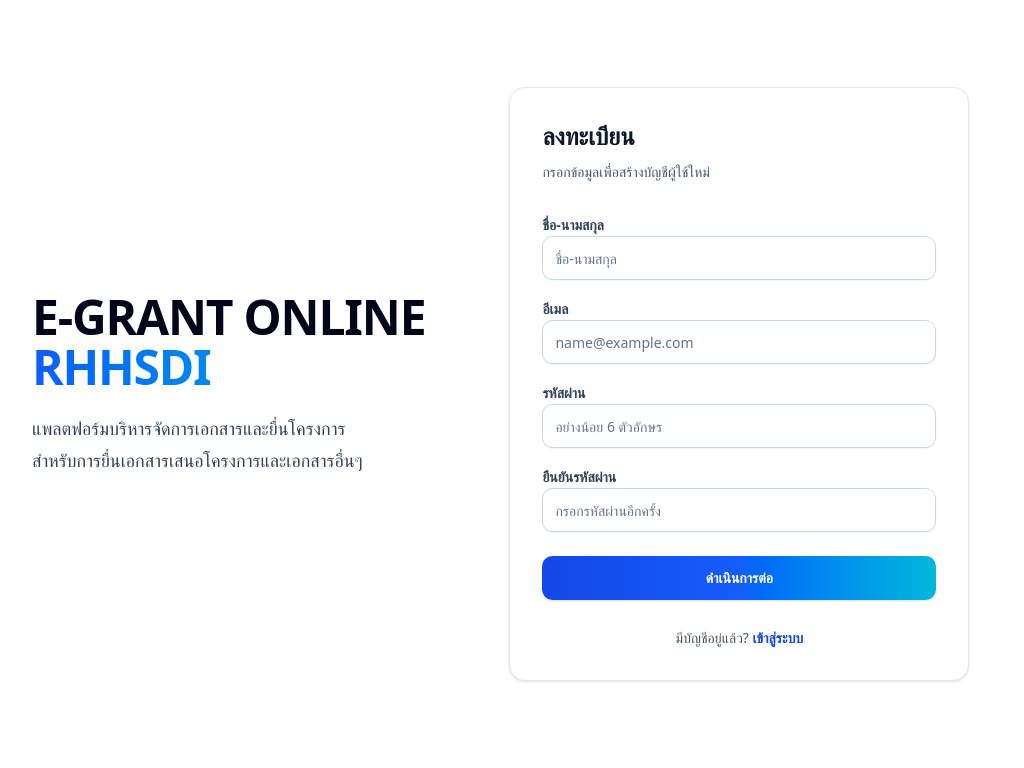
SignupClient › shows API error message when signup endpoint returns error
The width and height of the screenshot is (1024, 768).
Type "ผู้ทดสอบ ระบบ" into the field labelled "ชื่อ-นามสกุล" at [739, 258], box [542,236,936,280]
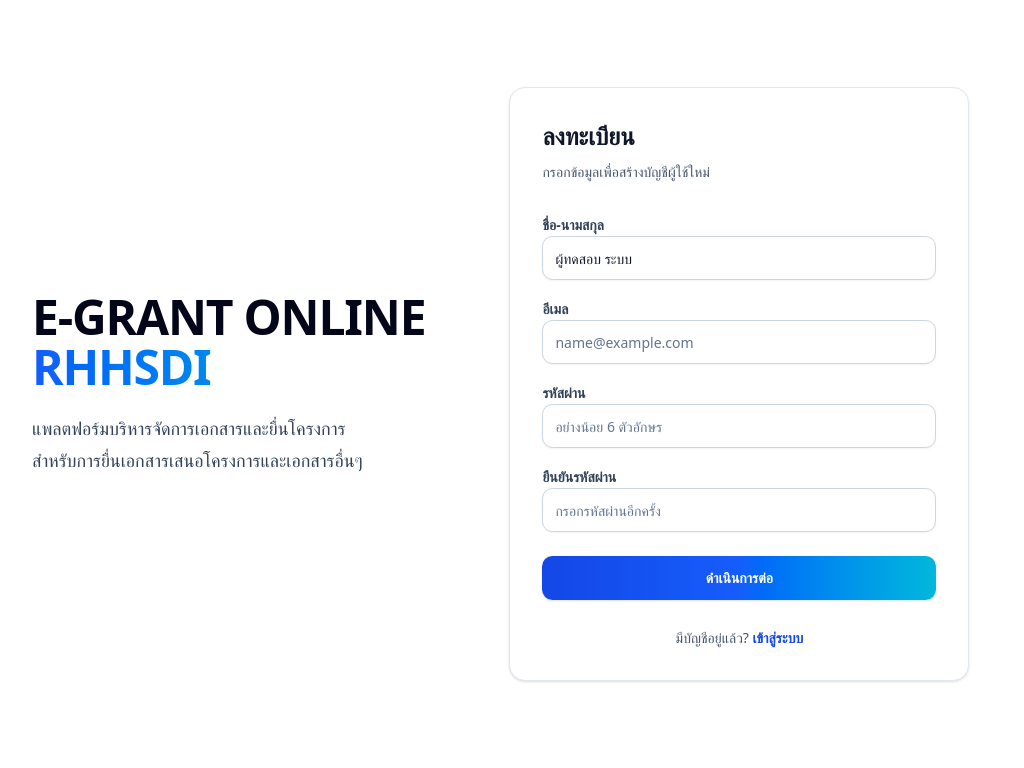
Type "tester@example.com" into the field labelled "อีเมล" at [739, 342], box [542,320,936,364]
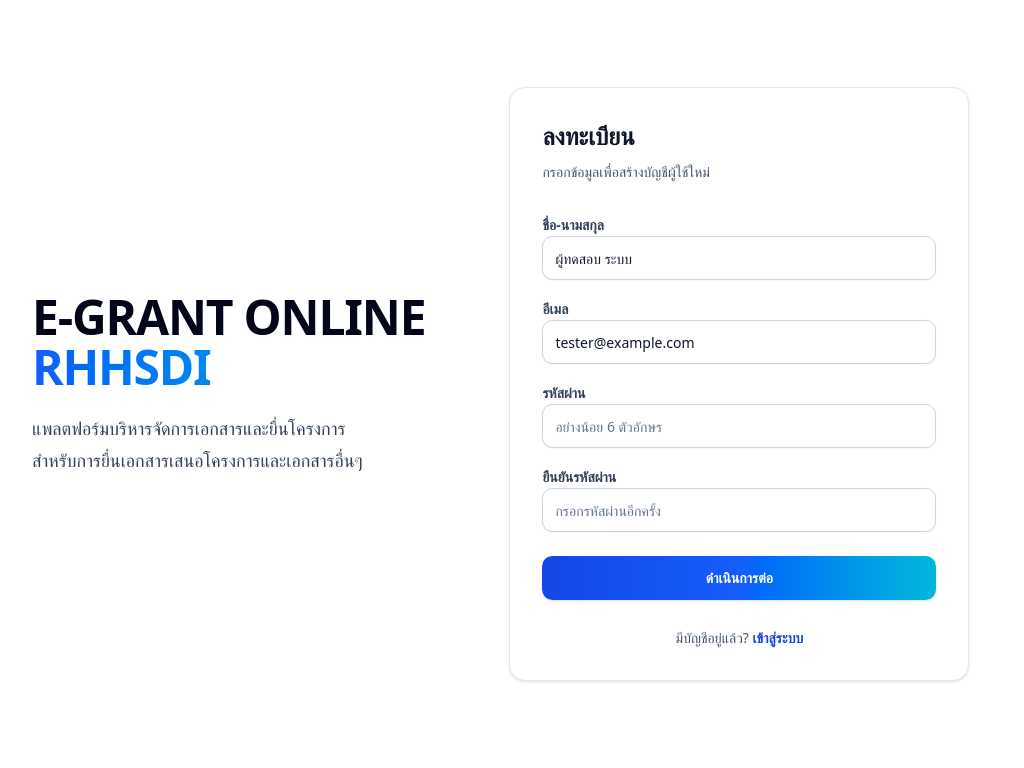
Type "123456" into the password field labelled "รหัสผ่าน" at [739, 426], box [542,404,936,448]
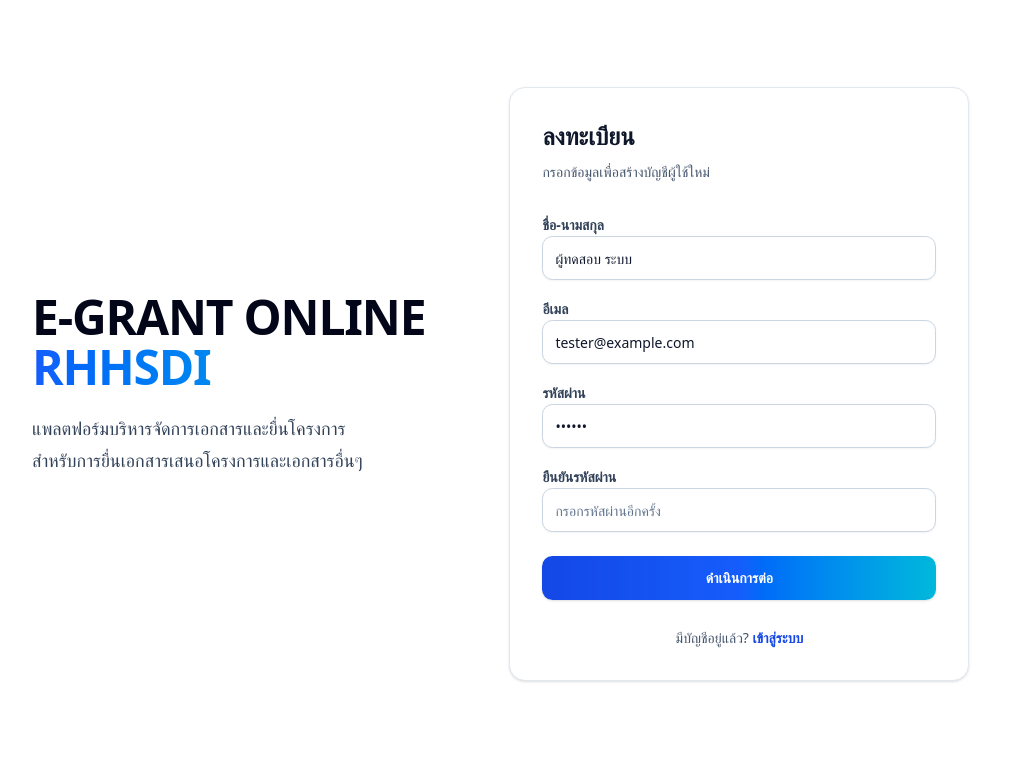
Type "123456" into the password field labelled "ยืนยันรหัสผ่าน" at [739, 510], box [542,488,936,532]
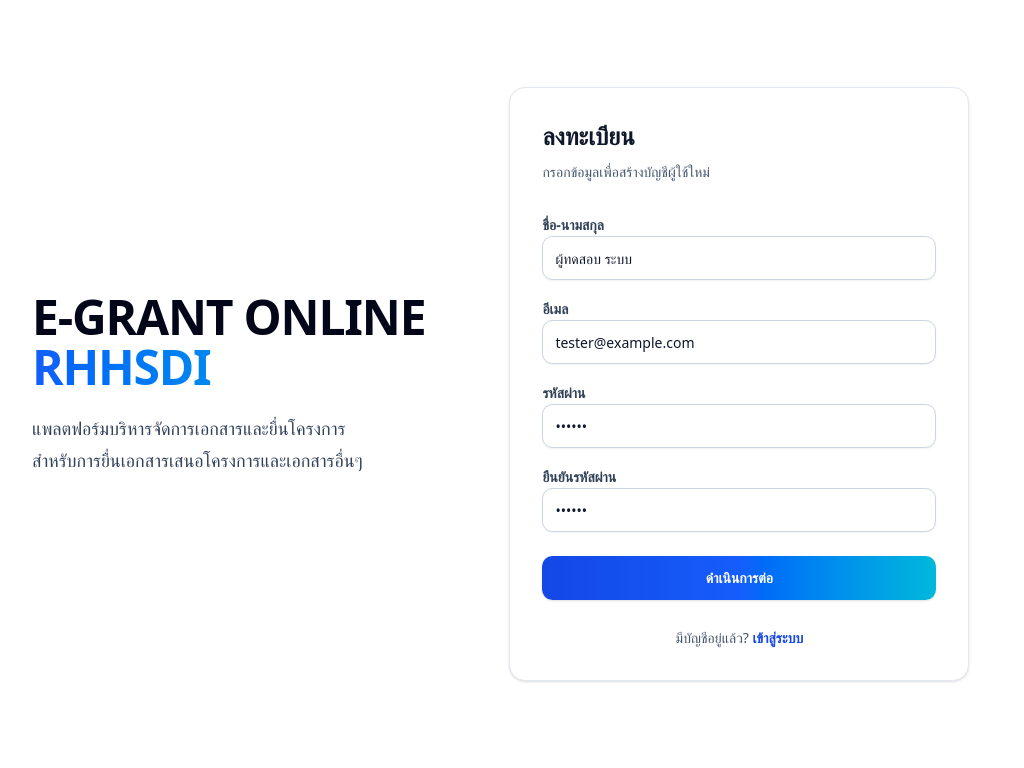
Click the button "ดำเนินการต่อ" at [739, 578], box [542,556,936,600]
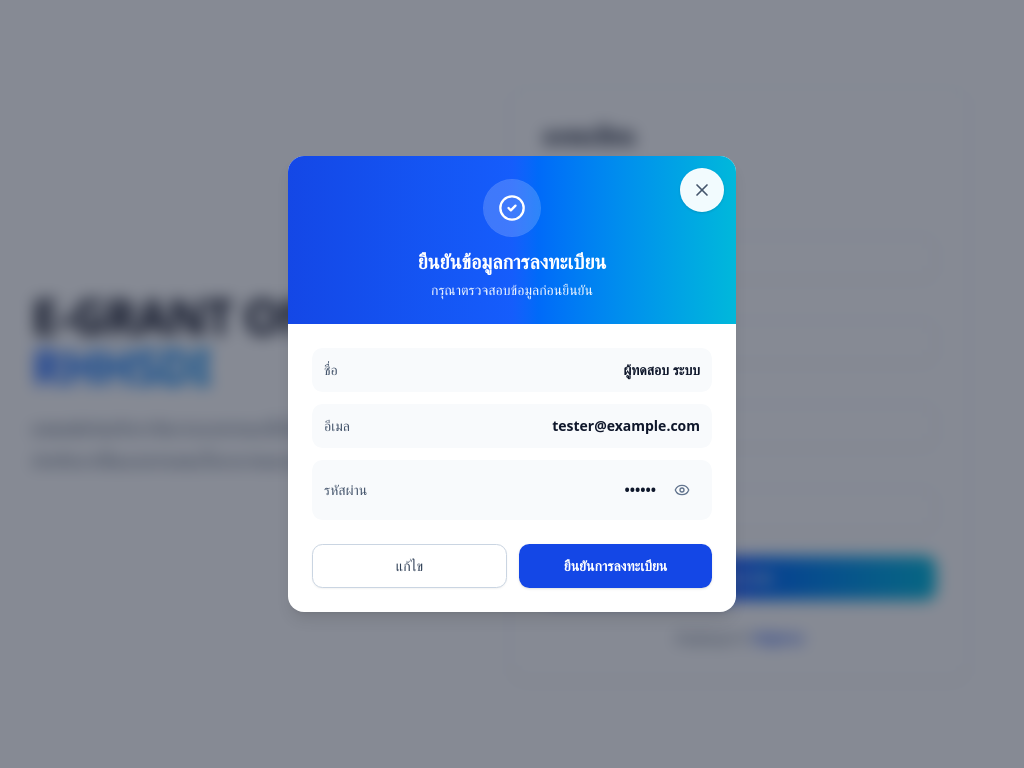
Check: the heading "ยืนยันข้อมูลการลงทะเบียน" is shown, box [418,248,606,275]
Click the button "ยืนยันการลงทะเบียน" at [616, 566], box [519,544,712,588]
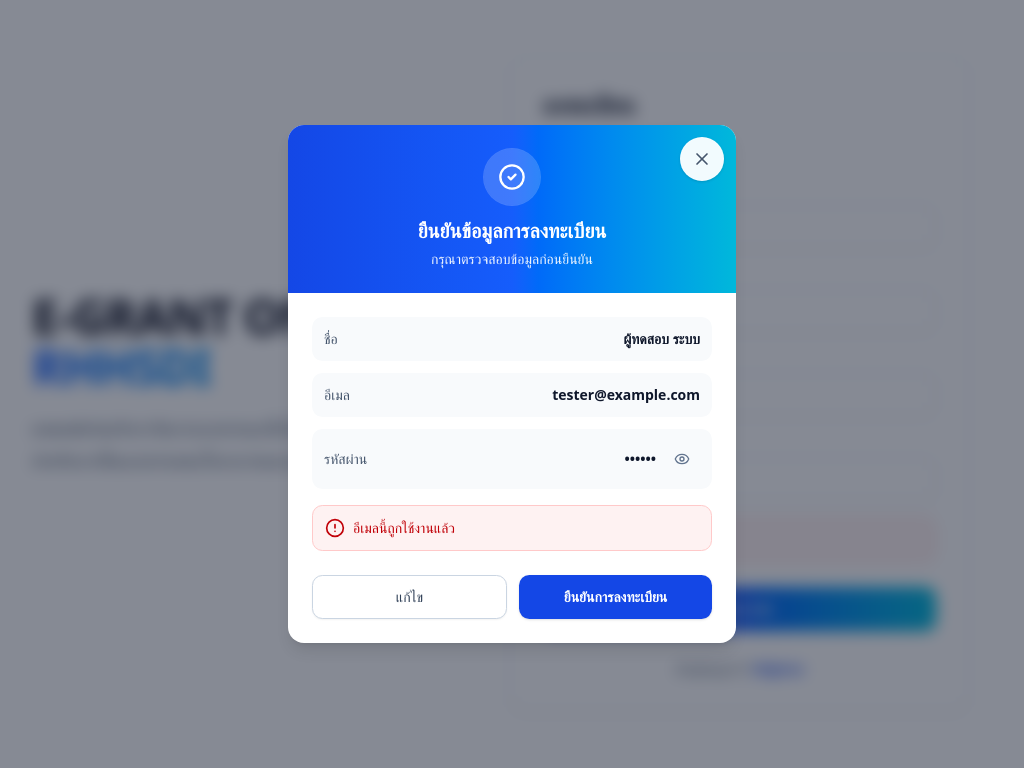
Check: the text "อีเมลนี้ถูกใช้งานแล้ว" below "ยืนยันรหัสผ่าน" is shown, box [583,530,685,549]
